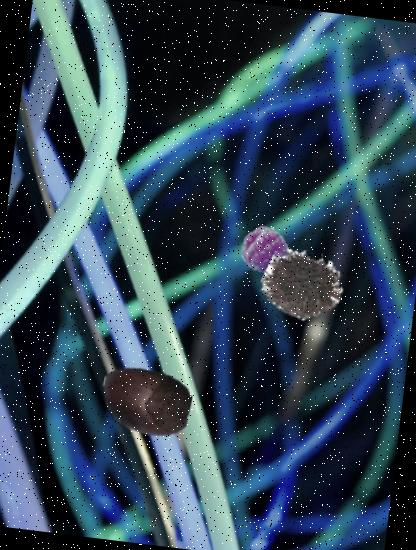Chestnut: (95, 352, 196, 452)
Rambutan: (259, 239, 349, 328)
Raspberry: (237, 220, 301, 284)
